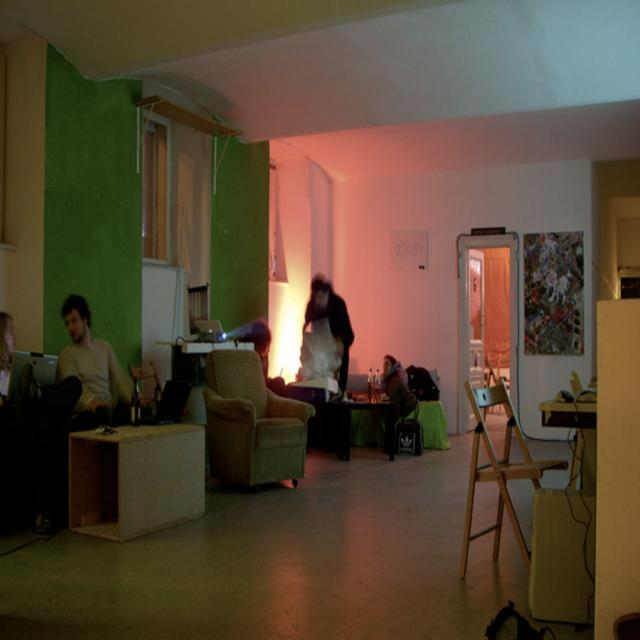chair: (460, 376, 570, 584), (202, 348, 315, 492)
desk: (542, 386, 596, 488)
person: (56, 294, 134, 426), (297, 272, 355, 396)
